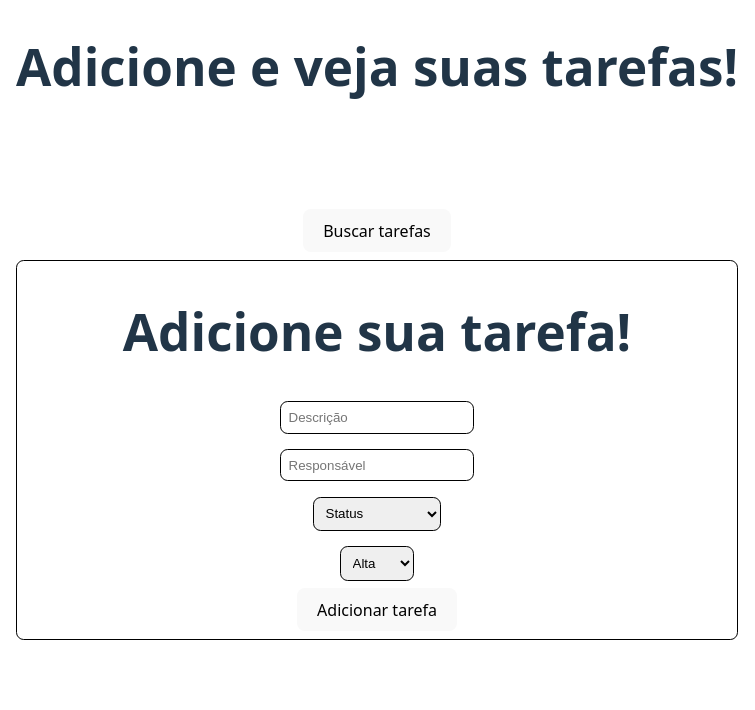
Test: Index Component › Listagem de tarefas › deve atualizar a lista quando o botão "Buscar tarefas" é clicado
Click the button "Buscar tarefas" at [377, 231], box x1=303 y1=209 x2=451 y2=252
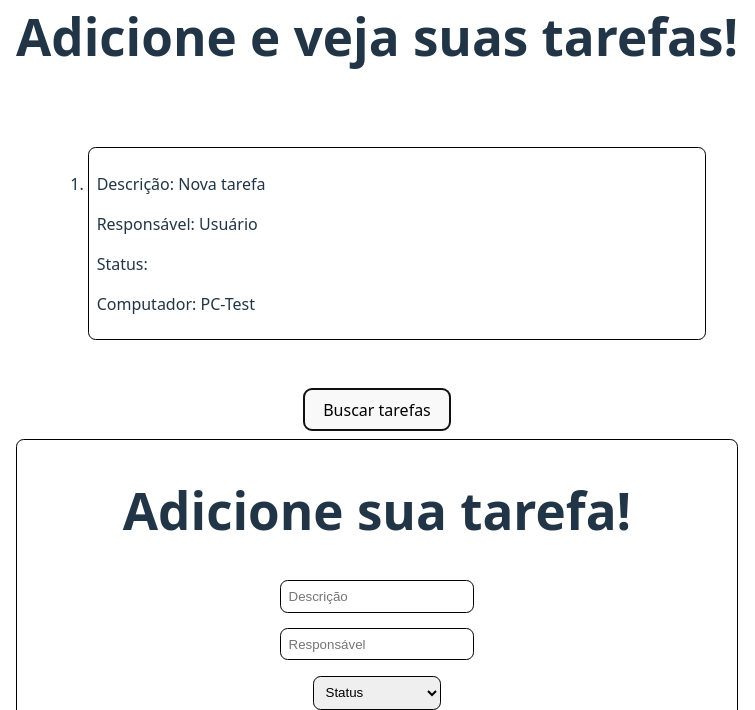
Check: the text "Descrição: Nova tarefa" is shown, box x1=97 y1=173 x2=266 y2=195
